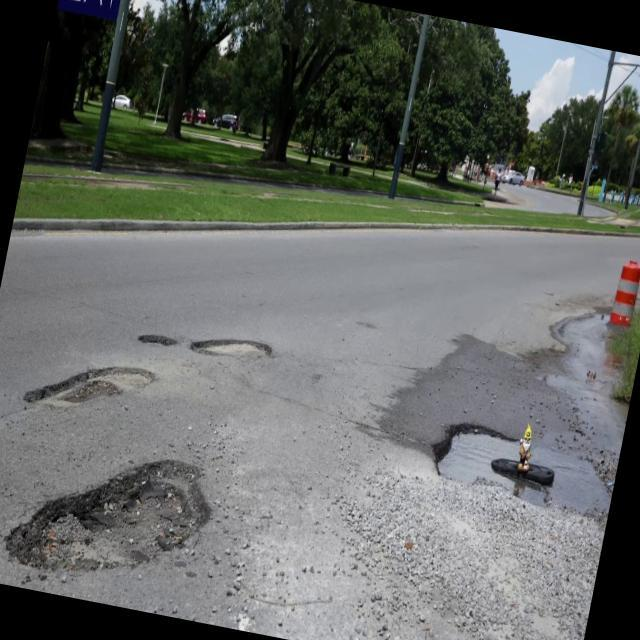Pothole: (8, 455, 230, 607), (428, 396, 624, 538), (25, 348, 164, 432), (190, 324, 278, 374), (137, 320, 180, 360)
